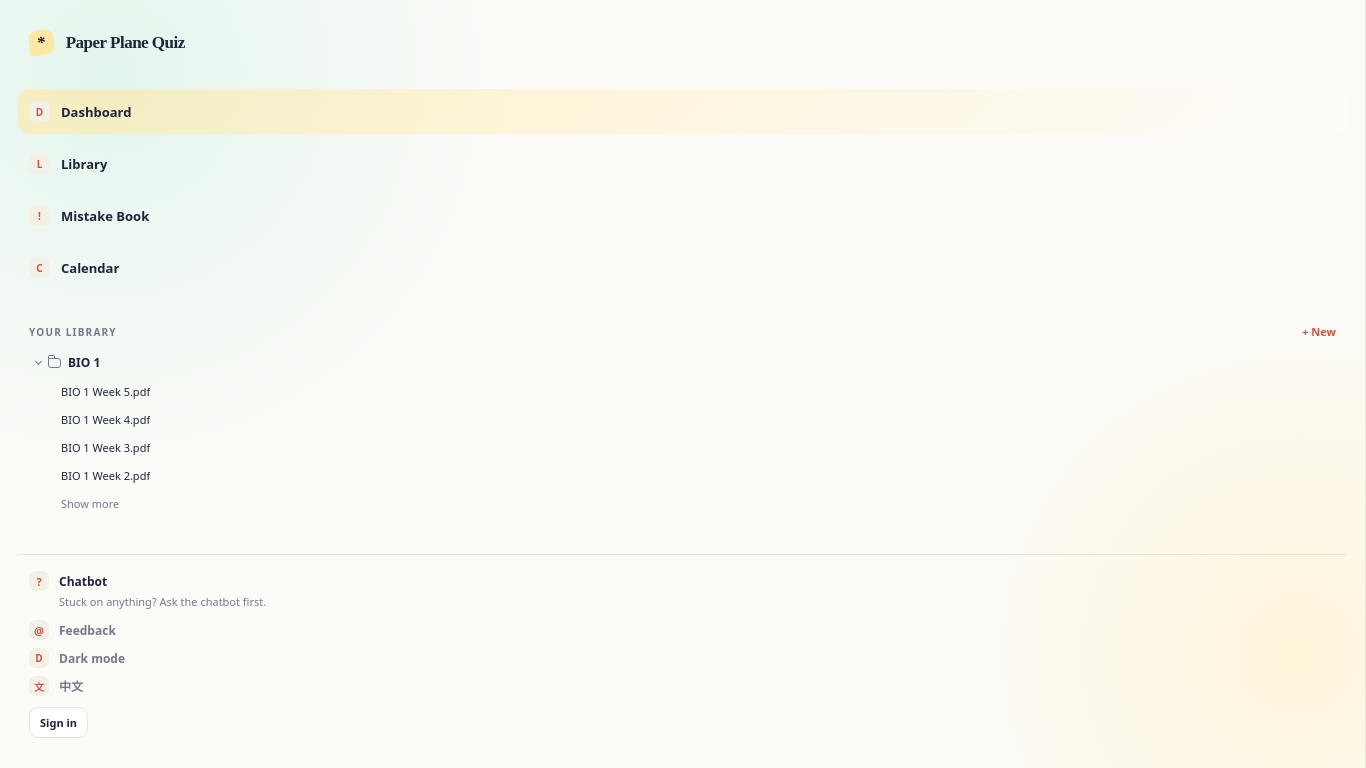
DashboardNavigation › holds a folder to a few files until the learner asks for the rest
This screenshot has width=1366, height=768.
Expected: the number of links "BIO 1 Week 5.pdf" is 4, [61,384,150,399]; [61,412,150,427]; [61,440,150,455]; [61,468,150,483]
Expected: the link "BIO 1 Week 1.pdf" is not shown
Step 1. Click the button with aria-label "Show every file in BIO 1" → (90, 504), box [55,491,125,516]
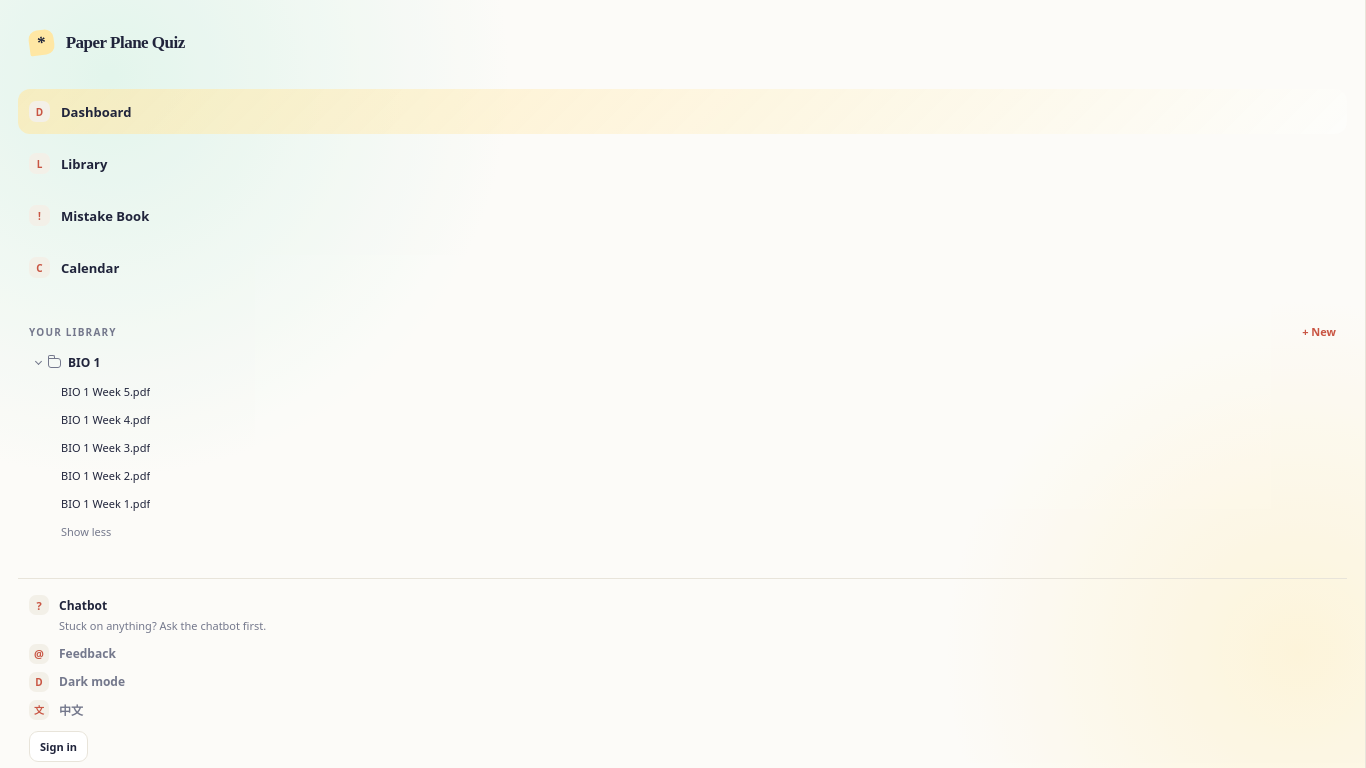
Now the number of links "BIO 1 Week 5.pdf" is 5, box [61,384,150,399]; [61,412,150,427]; [61,440,150,455]; [61,468,150,483]; [61,496,150,511]
Now the link "BIO 1 Week 1.pdf" is shown, box [61,496,150,511]
Step 2. Click the button with aria-label "Show fewer files in BIO 1" → (86, 532), box [55,519,117,544]
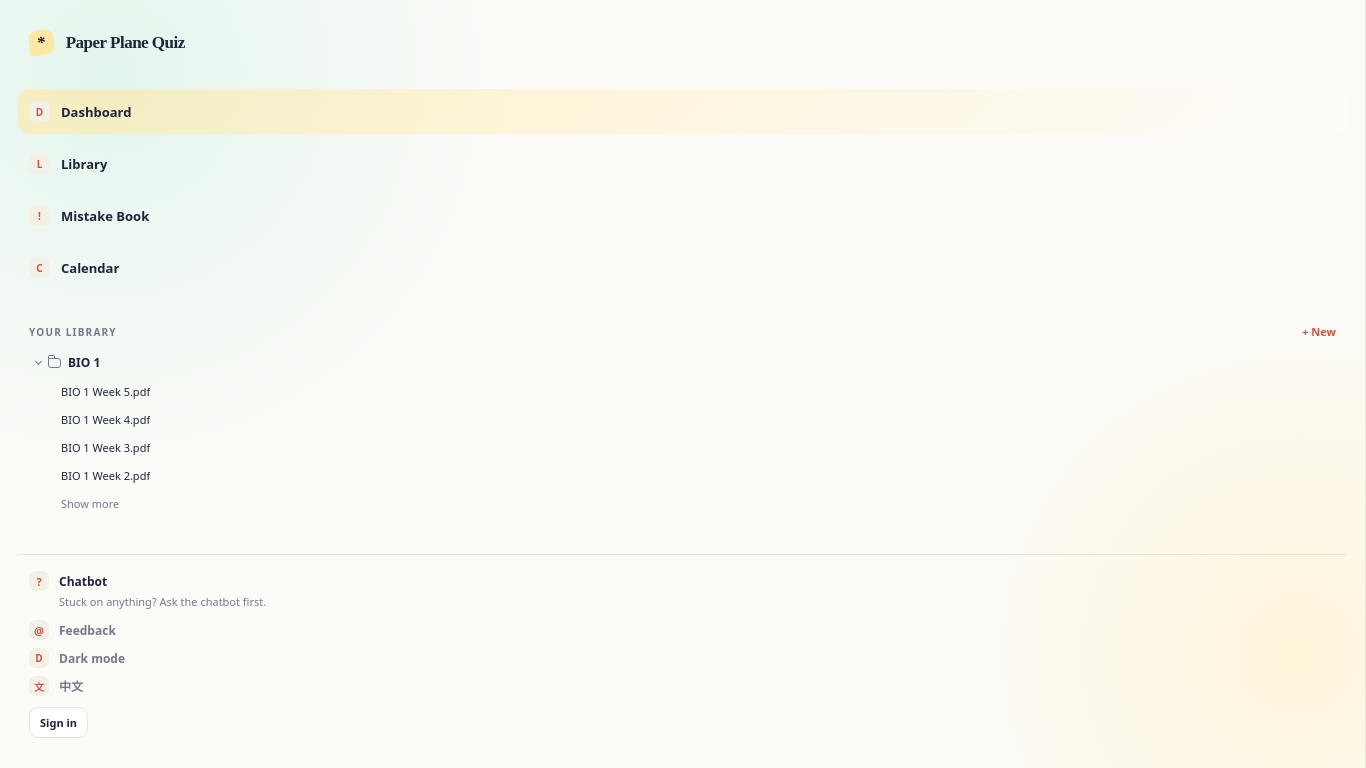
Now the number of links "BIO 1 Week 5.pdf" is 4, box [61,384,150,399]; [61,412,150,427]; [61,440,150,455]; [61,468,150,483]
